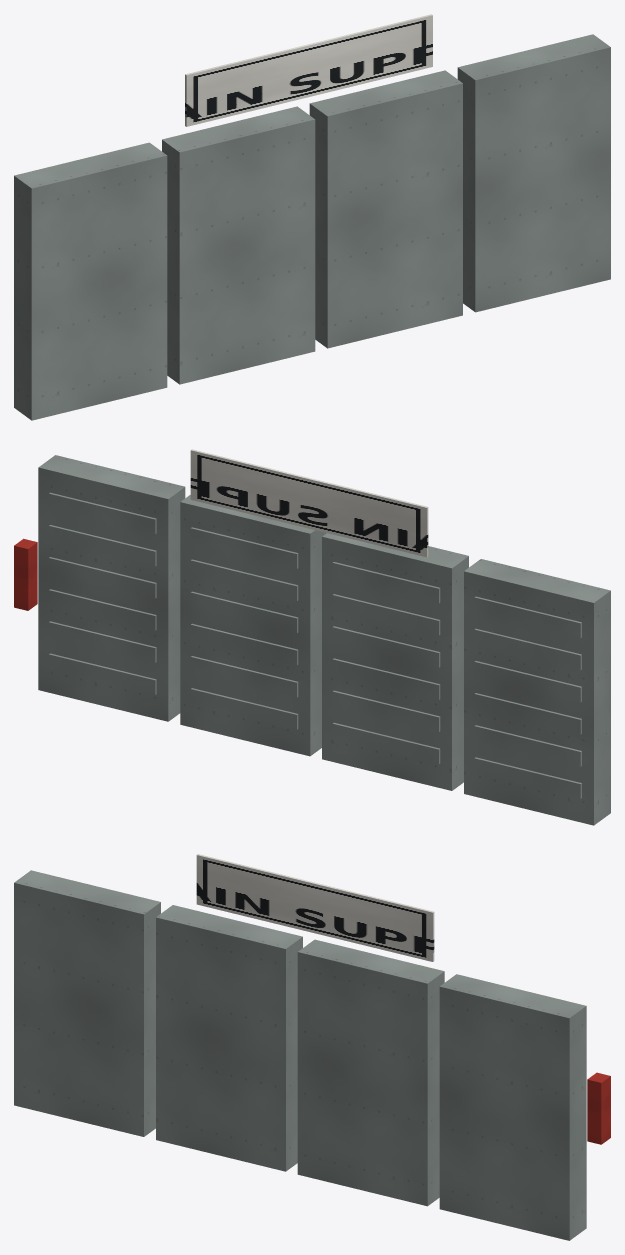
File: breaker_wall.glb
The picture shows the model from 3 angles, top to bottom: view 1: azimuth 30°, elevation 25°; view 2: azimuth 150°, elevation 25°; view 3: azimuth 330°, elevation 25°; orthographic projection. The views are drawn at different scales.
Parts seen in each view (by area): view 1: breaker_wall; view 2: breaker_wall; view 3: breaker_wall.
Part boxes in pixels (box(x1,y1,x2,y2)): breaker_wall: box(14, 14, 610, 420); breaker_wall: box(14, 449, 610, 825); breaker_wall: box(14, 854, 610, 1240).
Bounding box in the file's own units: 4.82 × 2.25 × 0.4.
Materials: 3 (3 with a texture image).
